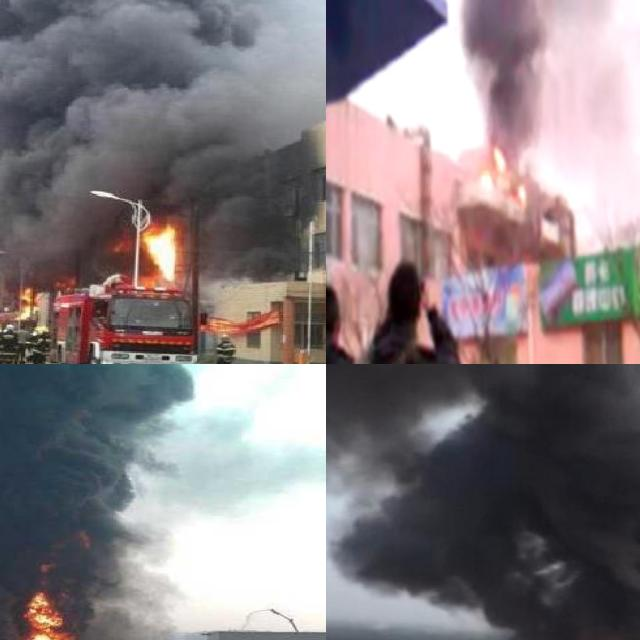fire: (479, 142, 523, 202), (137, 220, 176, 284), (18, 592, 63, 640), (13, 285, 38, 319)
smoke: (0, 364, 326, 640), (0, 0, 326, 269), (326, 364, 640, 640), (450, 0, 635, 150)
